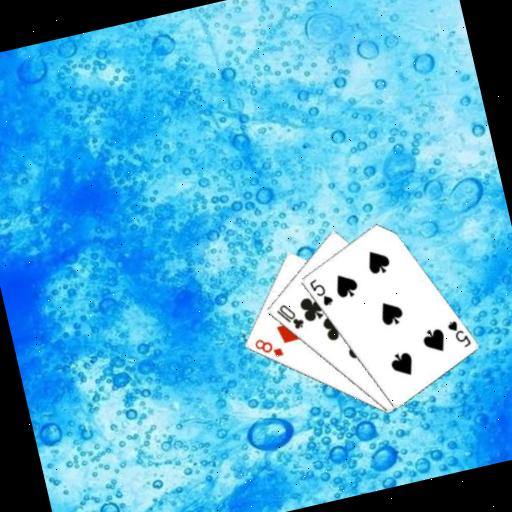10C: (272, 298, 307, 335)
5S: (443, 314, 473, 352), (305, 273, 335, 310)
8D: (250, 331, 286, 363)
